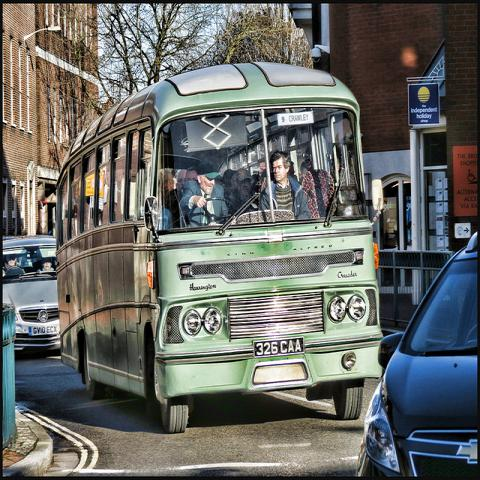bus: (56, 64, 386, 438)
car: (356, 229, 480, 479), (1, 232, 62, 358)
